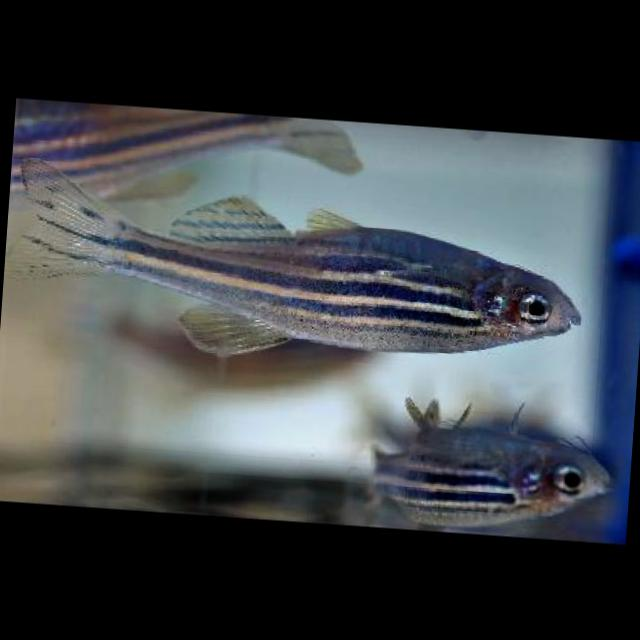ZebraFish: (0, 152, 593, 386)
